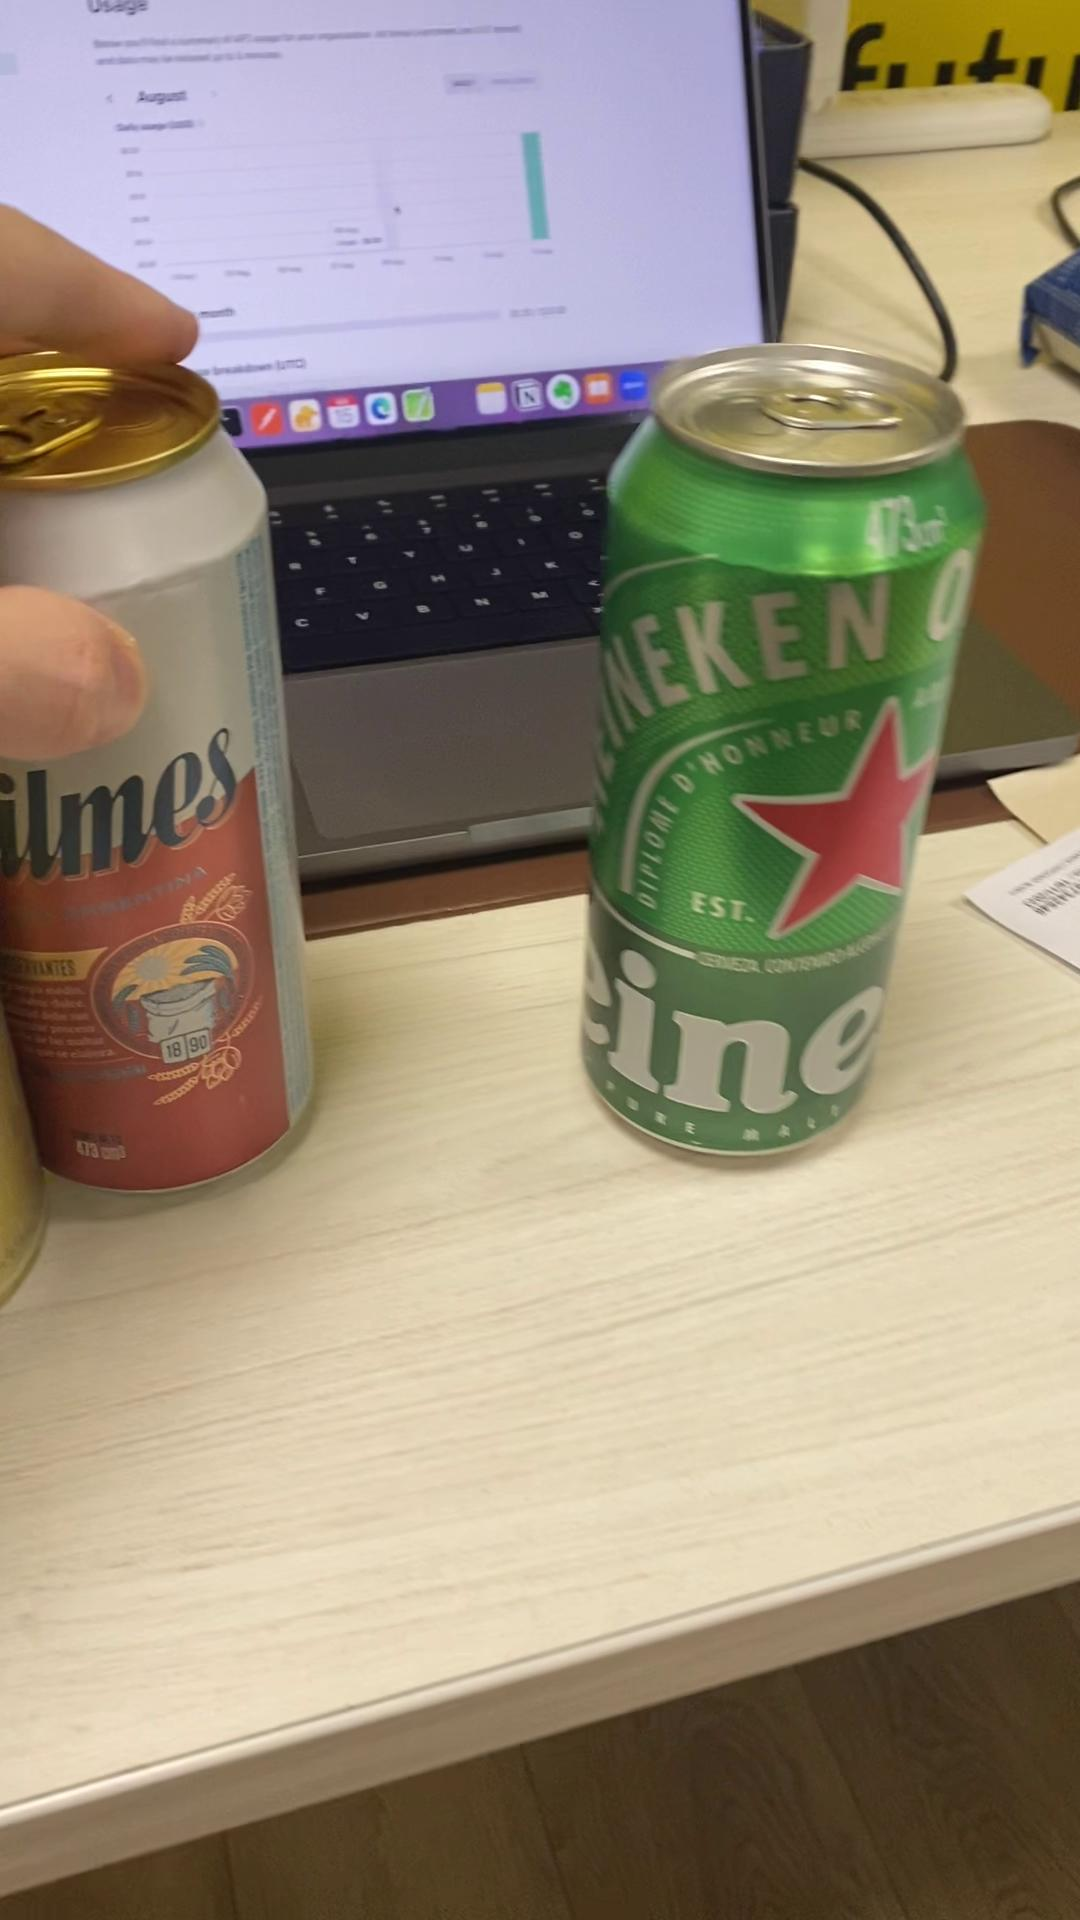metal: (583, 344, 982, 1153), (0, 434, 311, 1189)
